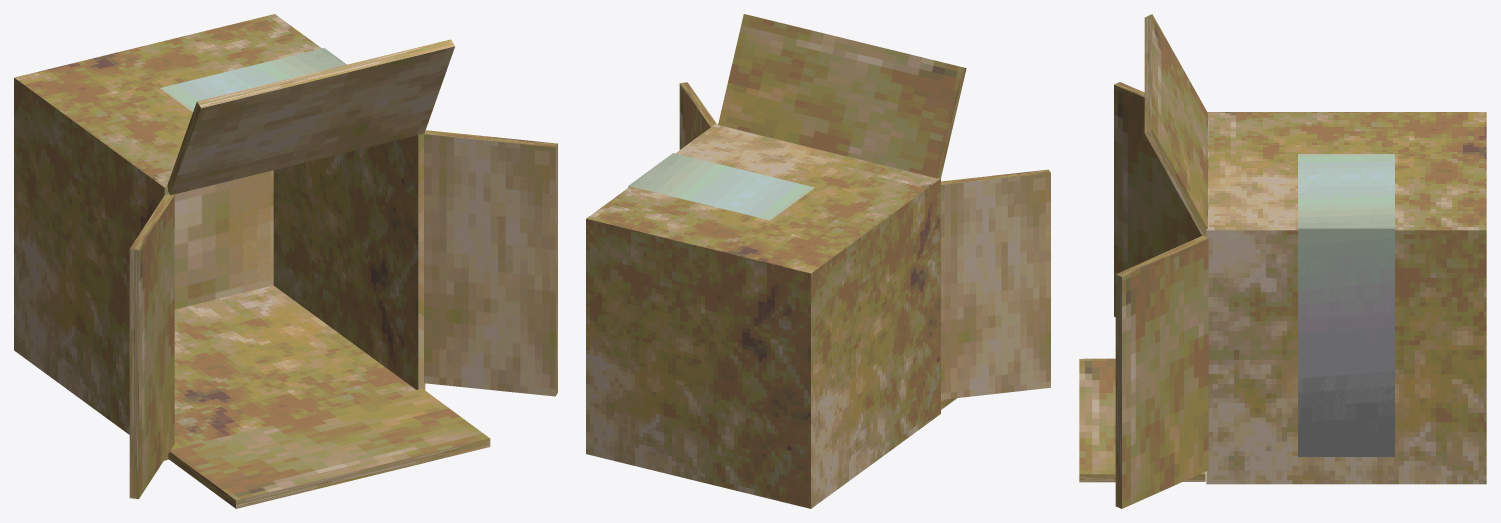
File: CardboardBox.fbx
3 views of the same model, side by side, from view 1: azimuth 30°, elevation 25°; view 2: azimuth 150°, elevation 25°; view 3: azimuth 270°, elevation 25° (orthographic). The views are drawn at different scales.
Parts seen in each view (by area): view 1: Cube; view 2: Cube; view 3: Cube.
Part boxes in pixels (left/top/right/bottom): Cube: left=14, top=14, right=557, bottom=508; Cube: left=586, top=14, right=1050, bottom=508; Cube: left=1079, top=14, right=1486, bottom=508.
Size of the model in its own units: 1.69 by 1.43 by 1.49.
1 material, 1 textured.
